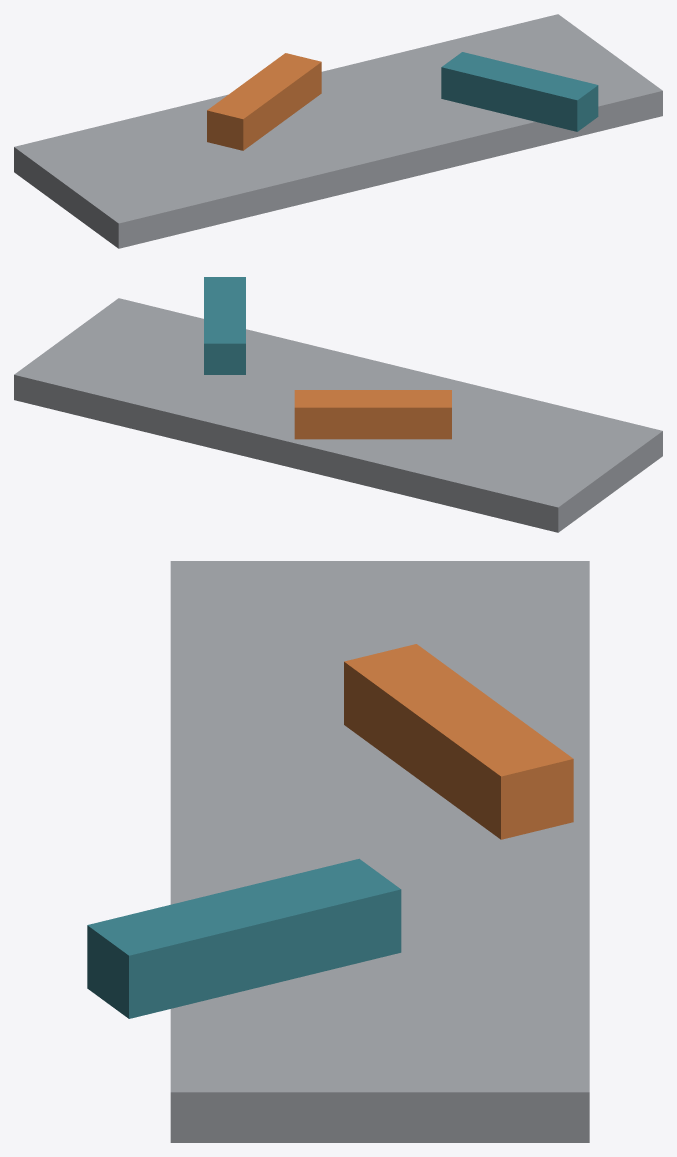
Rendered from asm_follow.glb.
3 renders of one model, top to bottom at view 1: azimuth 30°, elevation 25°; view 2: azimuth 150°, elevation 25°; view 3: azimuth 270°, elevation 25°, orthographic. The views are drawn at different scales.
Visible parts, largest first — view 1: base, follower, leader; view 2: base, leader, follower; view 3: base, follower, leader.
Part boxes in pixels (x1=…): base: x1=14, y1=14, x2=662, y2=248; follower: x1=441, y1=52, x2=598, y2=131; leader: x1=207, y1=53, x2=321, y2=150; base: x1=14, y1=298, x2=662, y2=532; leader: x1=294, y1=390, x2=451, y2=439; follower: x1=204, y1=277, x2=245, y2=374; base: x1=170, y1=561, x2=589, y2=1142; follower: x1=87, y1=858, x2=401, y2=1018; leader: x1=344, y1=644, x2=573, y2=839.
Size of the model in its own units: 0.18 by 0.018 by 0.072.
